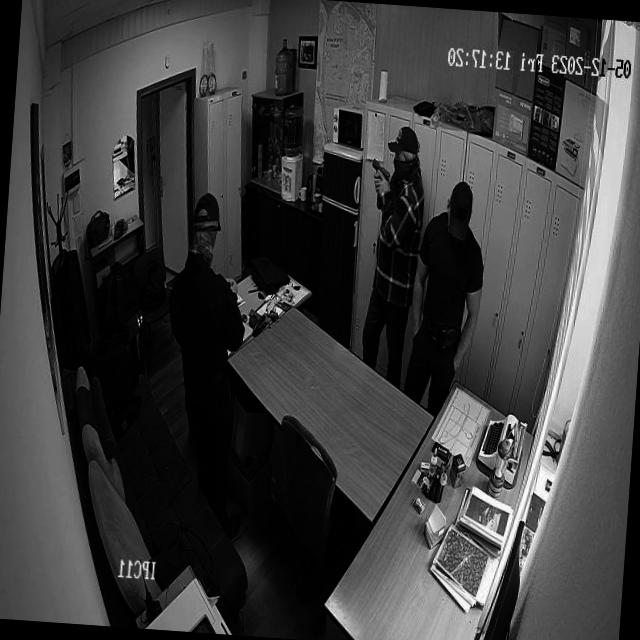gun: (370, 158, 391, 184)
person: (160, 188, 252, 443), (404, 180, 490, 390)
person with a gun: (360, 125, 430, 359)
